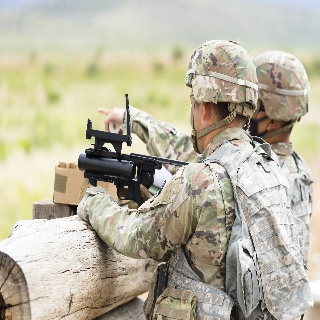rifle: (77, 92, 190, 207)
